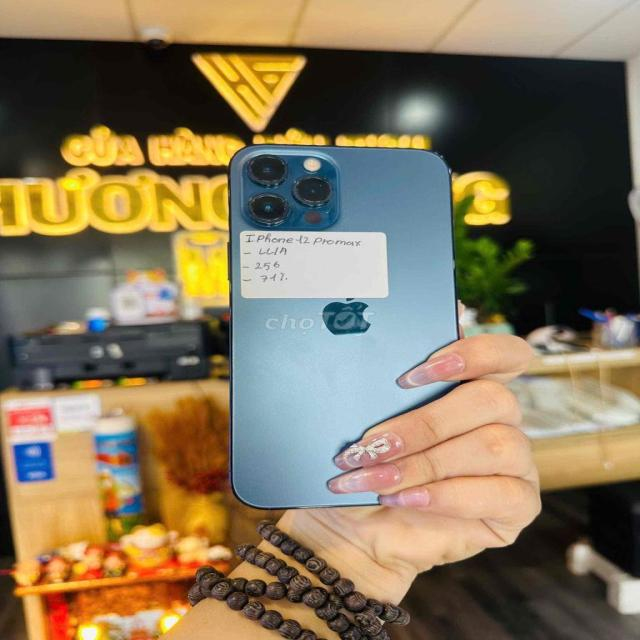gen_12_13: (230, 140, 479, 516)
